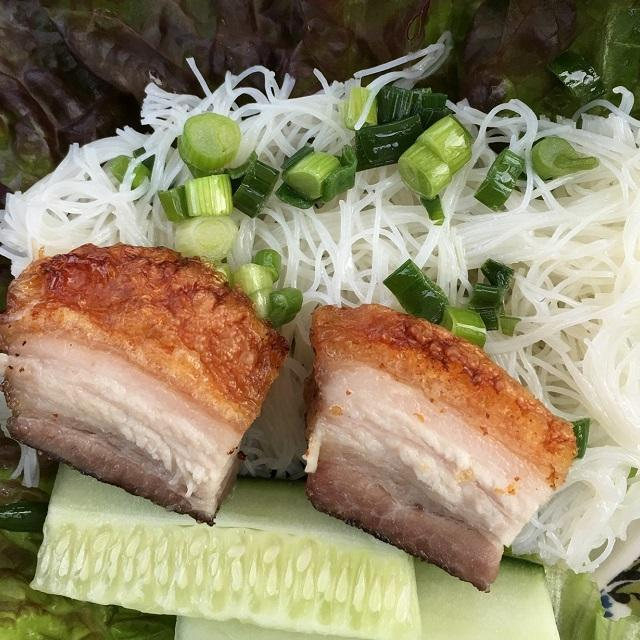banh hoi: (0, 23, 640, 579)
banh hoi heo quay: (0, 0, 640, 640)
thit heo quay: (0, 238, 296, 545), (293, 298, 585, 602)
